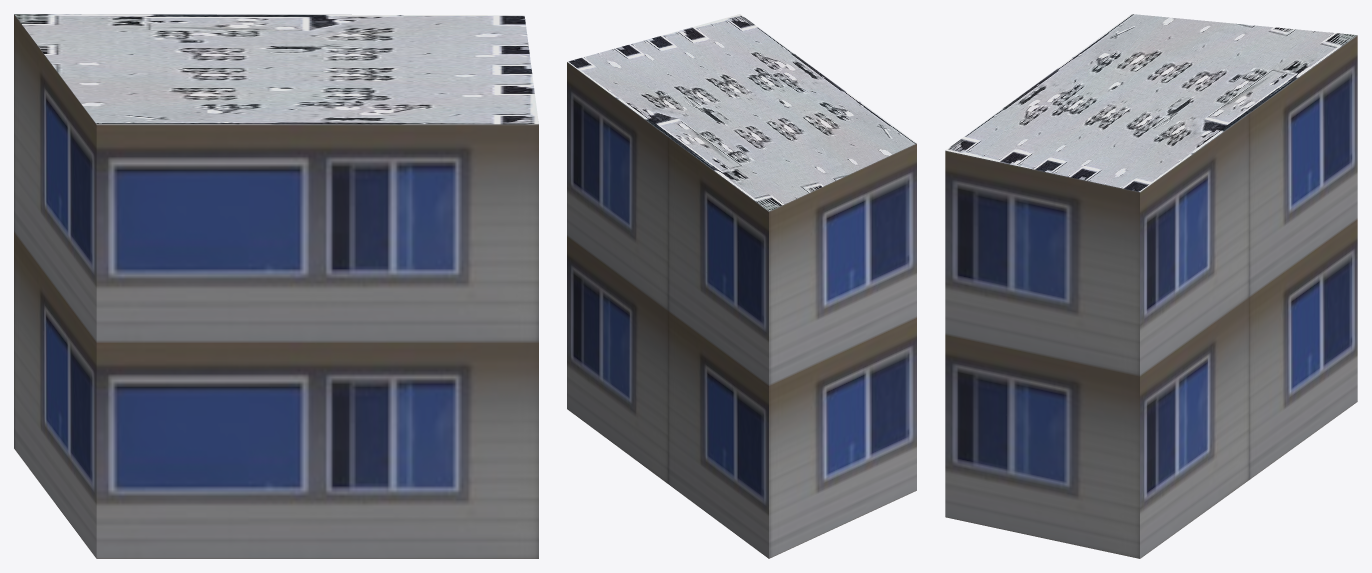
The model's file is ResTex__2437.fbx.
3 views of the same model, side by side, from view 1: azimuth 30°, elevation 25°; view 2: azimuth 150°, elevation 25°; view 3: azimuth 270°, elevation 25° (orthographic). The views are drawn at different scales.
Parts seen in each view (by area): view 1: CityEngineMaterial_23_m, CityEngineMaterial_m; view 2: CityEngineMaterial_23_m, CityEngineMaterial_m; view 3: CityEngineMaterial_23_m, CityEngineMaterial_m.
Boxes of the visible parts, x1,y1,x2,y2 form: CityEngineMaterial_23_m: (14, 14, 538, 558); CityEngineMaterial_m: (14, 14, 538, 124); CityEngineMaterial_23_m: (567, 62, 916, 558); CityEngineMaterial_m: (567, 14, 916, 211); CityEngineMaterial_23_m: (945, 35, 1357, 558); CityEngineMaterial_m: (945, 14, 1357, 191).
Bounding box in the file's own units: 6.26 × 6 × 6.12.
Materials: 2 (2 with a texture image).
